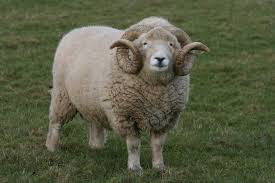koyun: (46, 16, 211, 173)
